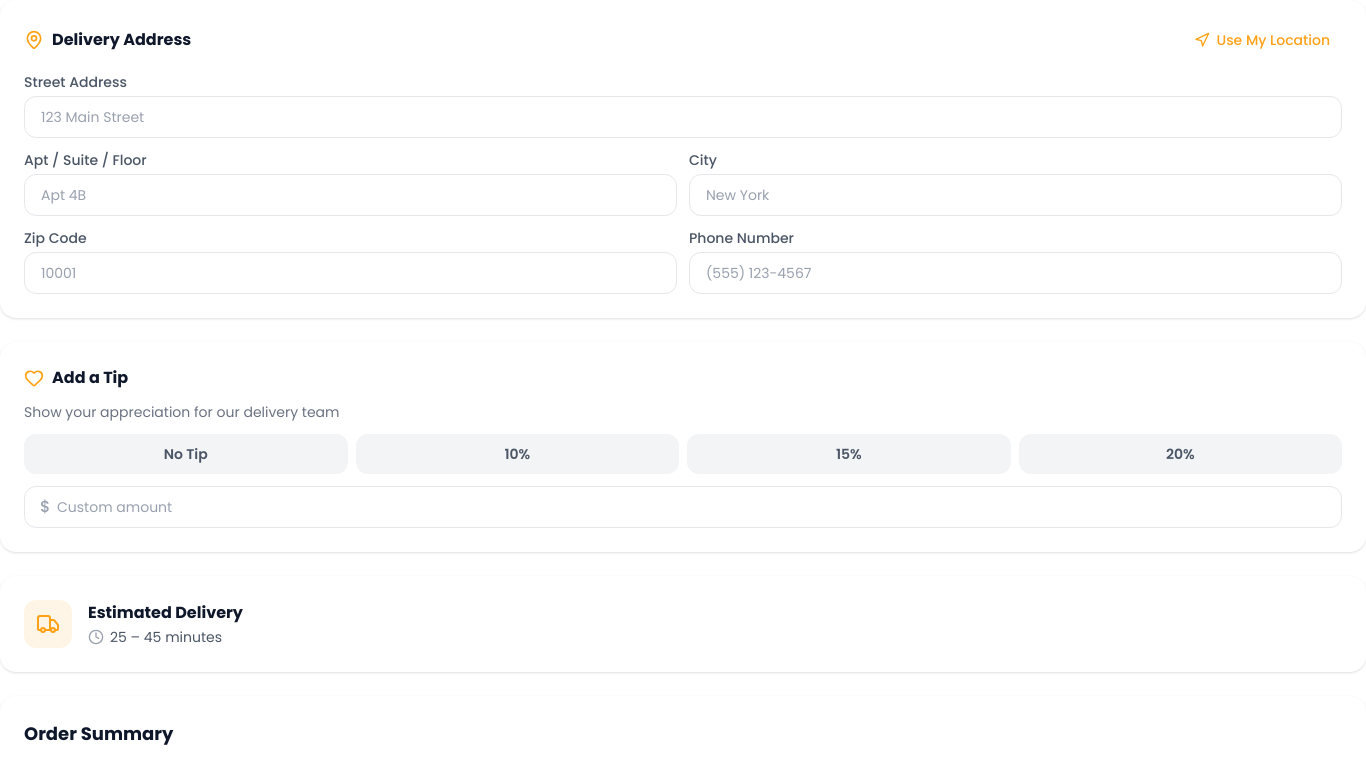
Test case: CheckoutForm › shows the 'Save my address' checkbox once a street is filled
Step 1. Type "1 Main St" into the field with placeholder "123 Main Street" → (683, 117), box left=24, top=96, right=1342, bottom=138
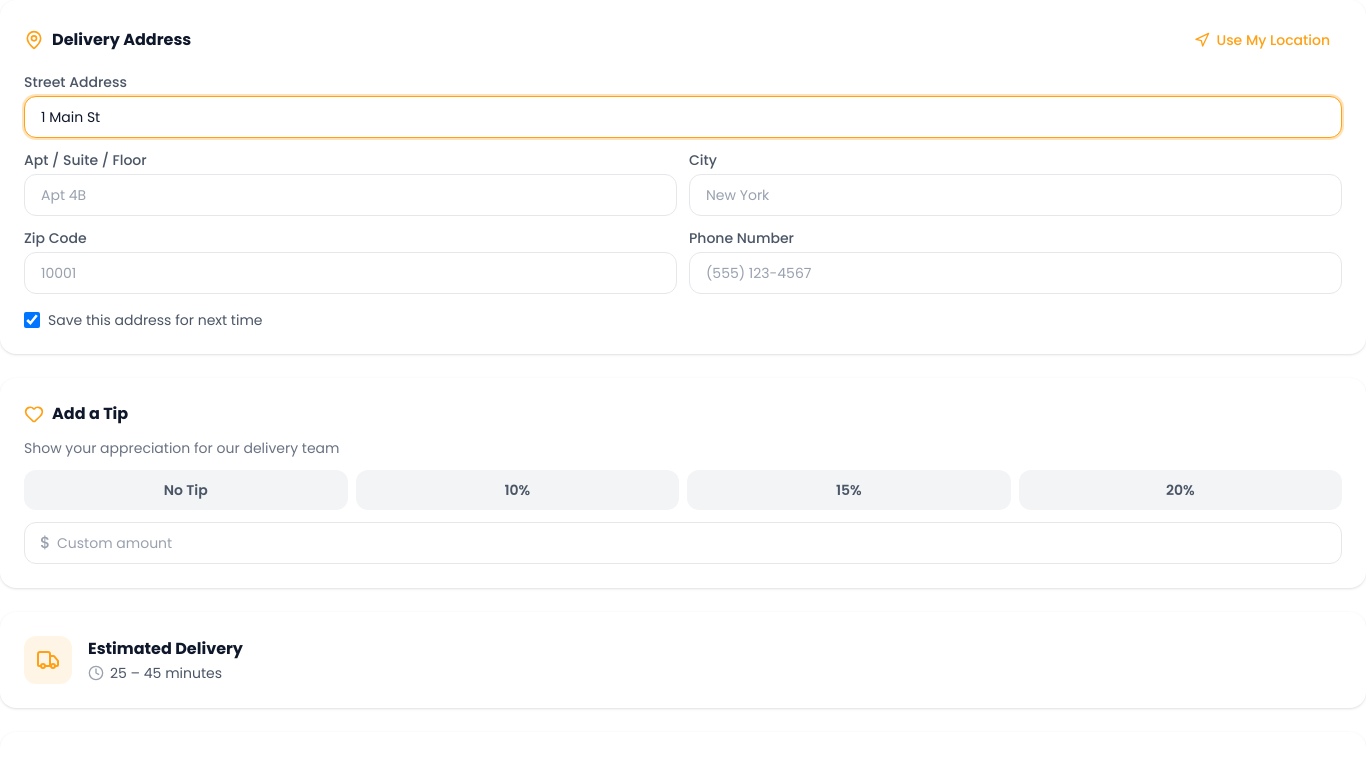
Now the text "Save this address for next time" is shown, box left=48, top=310, right=262, bottom=330
